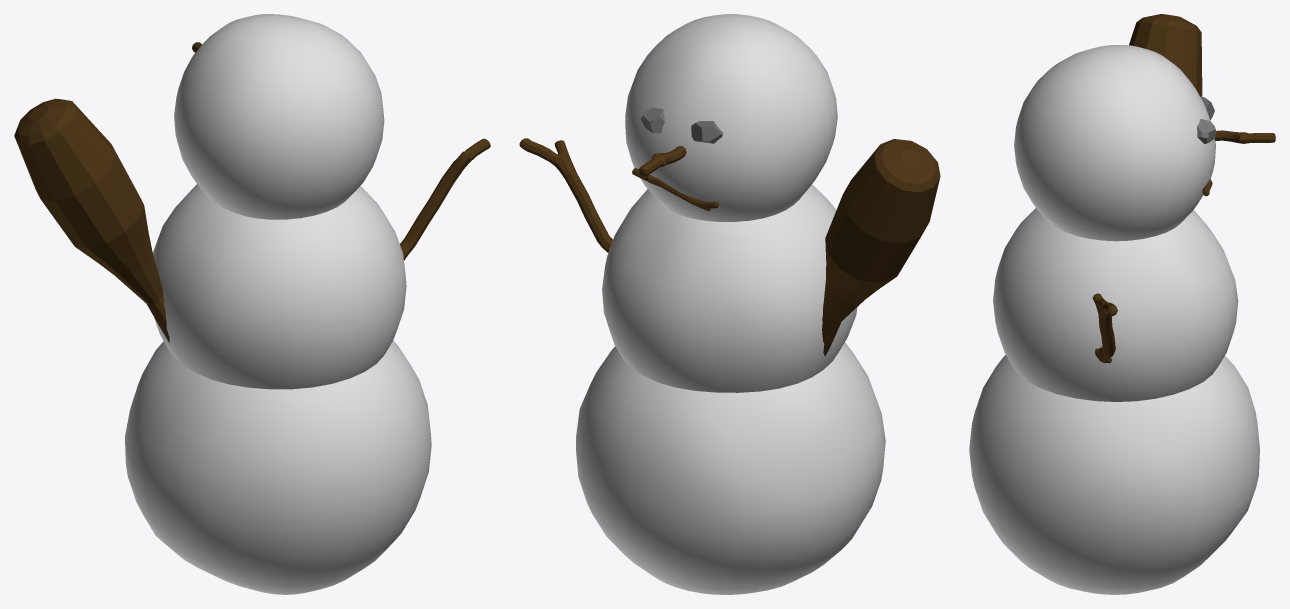
File: snowman.fbx
The picture shows the model from 3 angles, left to right: view 1: azimuth 30°, elevation 25°; view 2: azimuth 150°, elevation 25°; view 3: azimuth 270°, elevation 25°; orthographic projection. The views are drawn at different scales.
Visible parts, largest first — view 1: Plane.002; view 2: Plane.002; view 3: Plane.002.
Part boxes in pixels (x1=…): Plane.002: x1=14, y1=14, x2=490, y2=594; Plane.002: x1=519, y1=14, x2=940, y2=594; Plane.002: x1=969, y1=14, x2=1275, y2=594.
Bounding box in the file's own units: 328 × 394 × 209.
